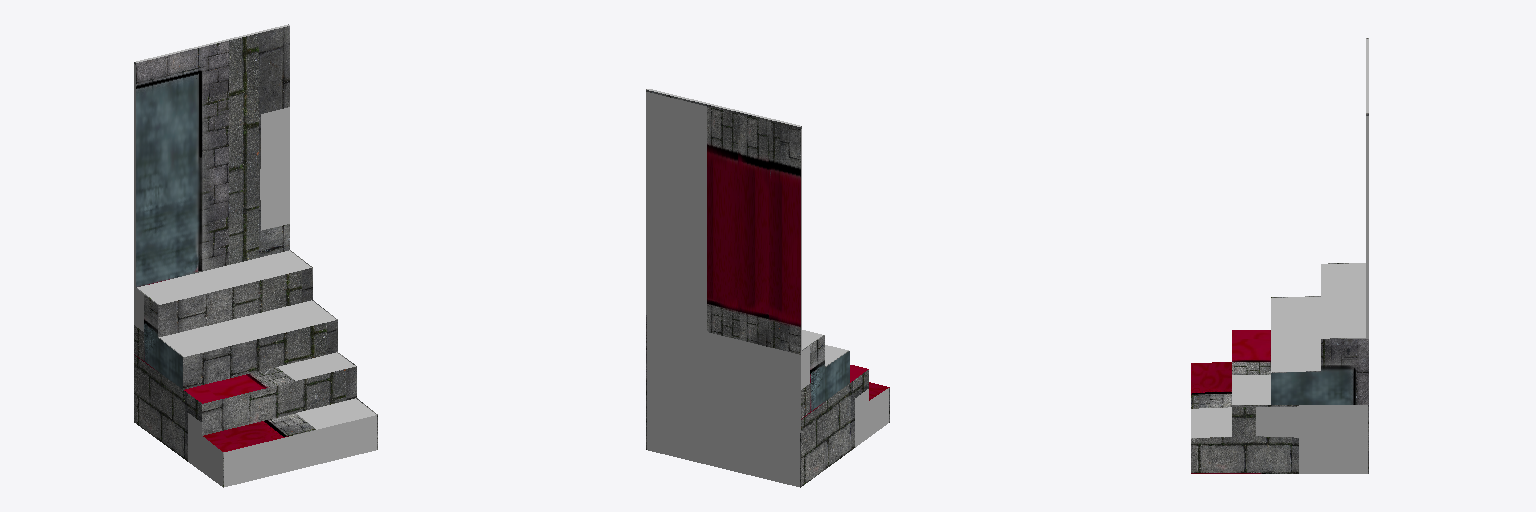
The picture shows the model from 3 angles: view 1: azimuth 30°, elevation 25°; view 2: azimuth 150°, elevation 25°; view 3: azimuth 270°, elevation 25°; orthographic projection.
Visible parts, largest first — view 1: Cubo; view 2: Cubo; view 3: Cubo.
Part boxes in pixels (x1,y1,x2,y2): Cubo: (134, 24, 377, 487); Cubo: (646, 89, 889, 487); Cubo: (1191, 38, 1368, 473).
Bounding box in the file's own units: 1 × 2.23 × 1.
1 materials, 1 textured.